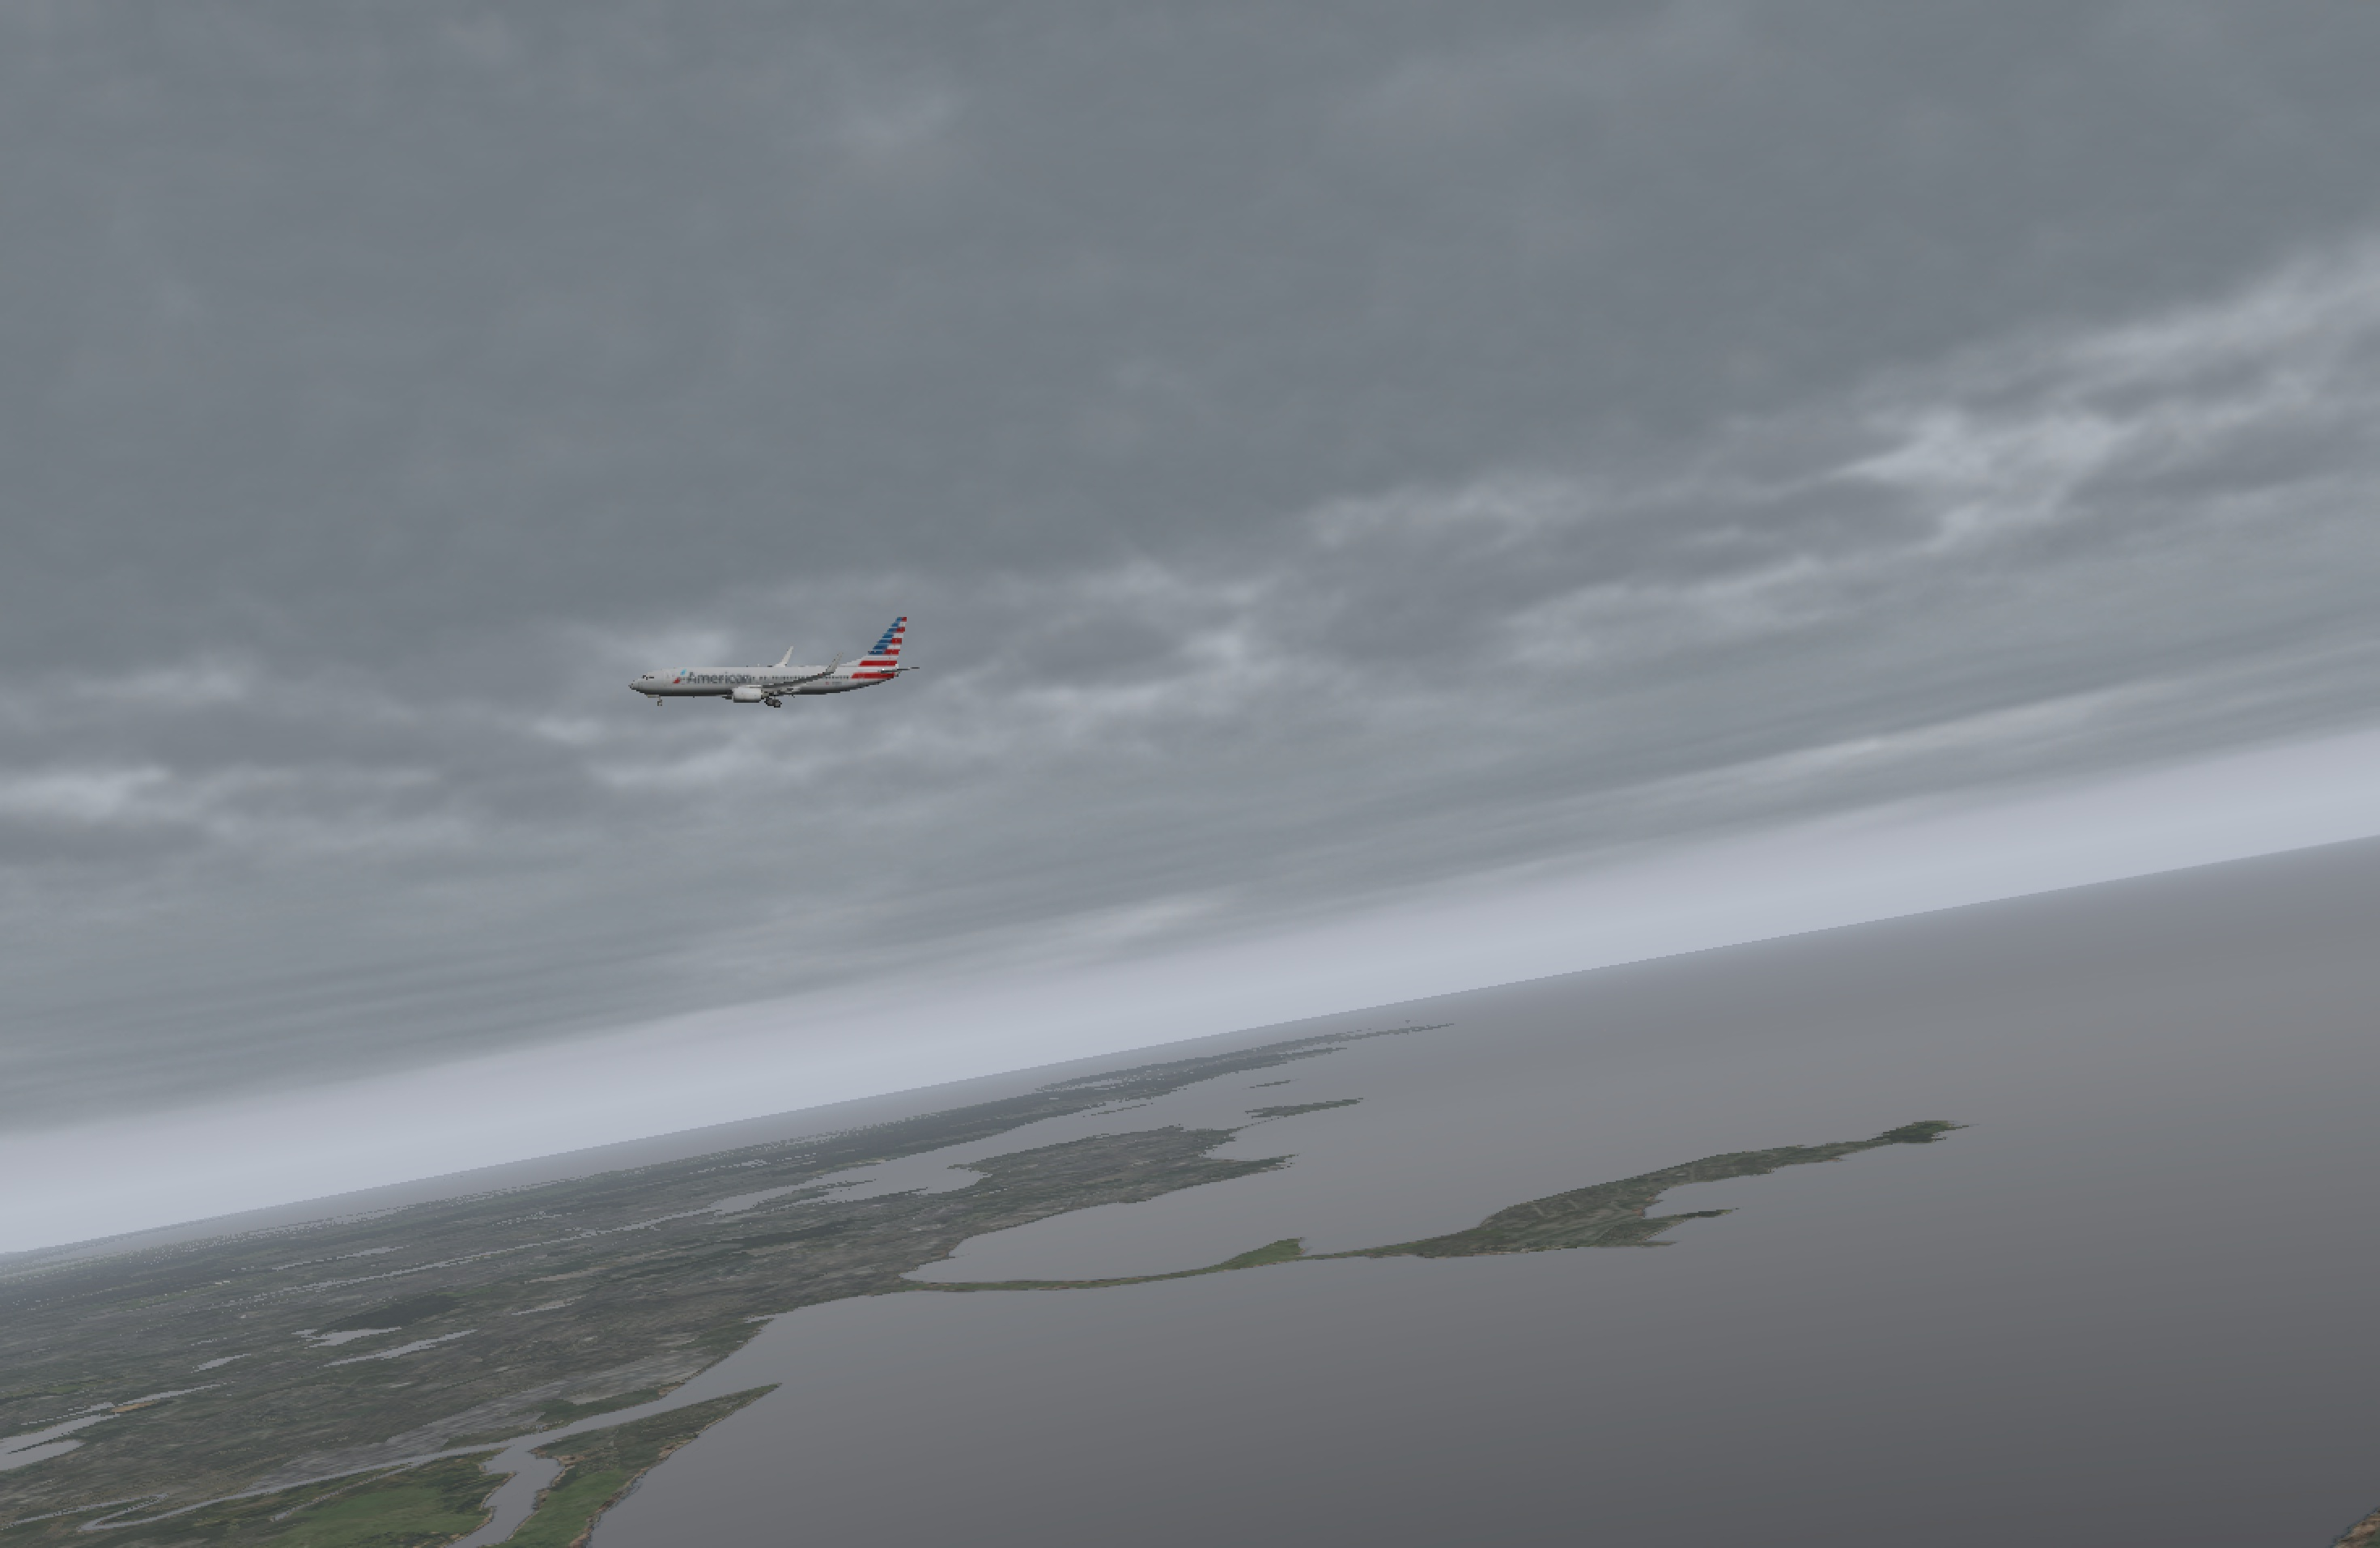aircraft: (626, 633, 899, 736)
